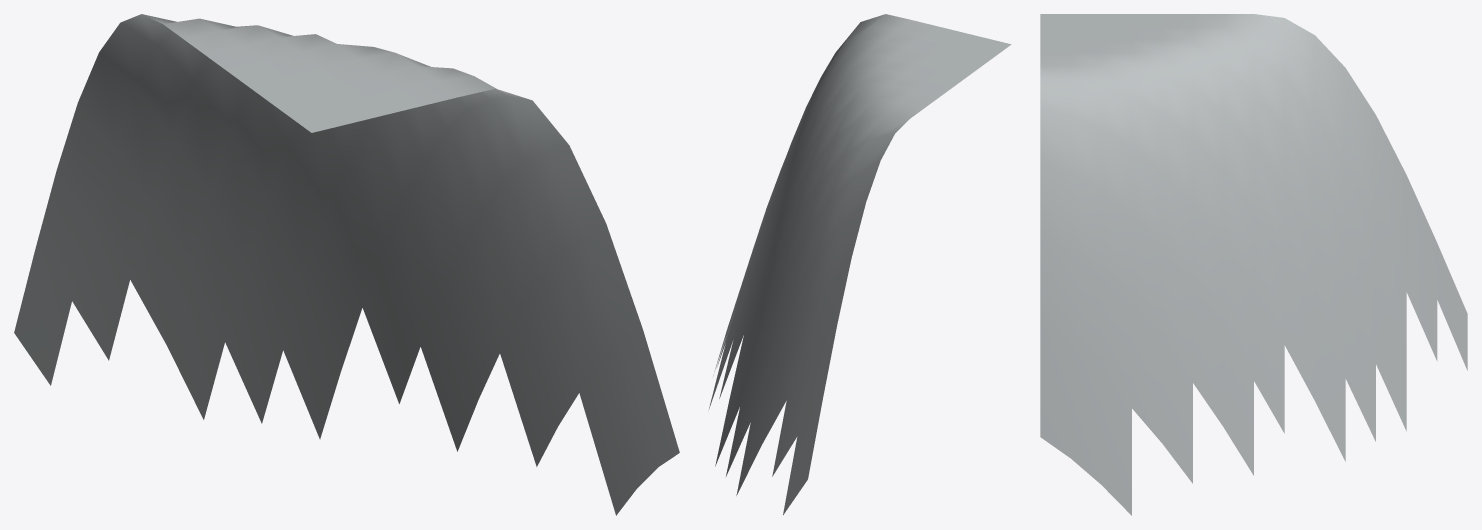
The model's file is alpine-12-2.glb.
3 renders of one model, left to right at view 1: azimuth 30°, elevation 25°; view 2: azimuth 150°, elevation 25°; view 3: azimuth 270°, elevation 25°, orthographic. The views are drawn at different scales.
Parts seen in each view (by area): view 1: alpine-12-2; view 2: alpine-12-2; view 3: alpine-12-2.
Boxes of the visible parts, bbox=[...] form: alpine-12-2: bbox=[14, 14, 679, 515]; alpine-12-2: bbox=[709, 14, 1011, 514]; alpine-12-2: bbox=[1040, 14, 1467, 515].
Size of the model in its own units: 80 by 108 by 112.
1 material, 1 textured.
